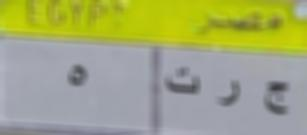5: (65, 57, 90, 88)
jeem: (256, 75, 294, 119)
raa: (215, 73, 243, 112)
taa: (160, 58, 203, 99)
